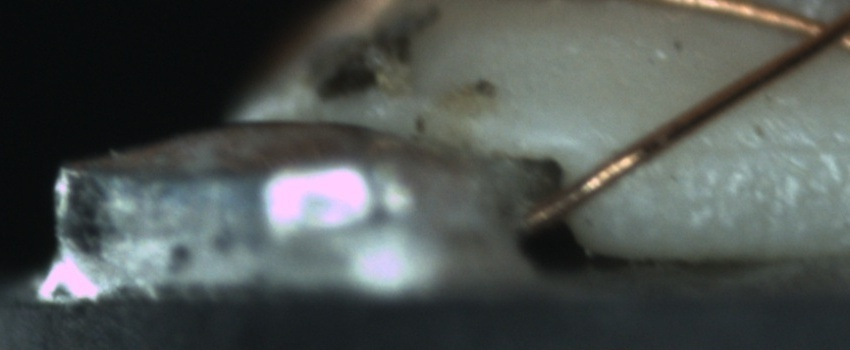CL: (782, 5, 848, 61)
DL: (683, 113, 850, 177)
